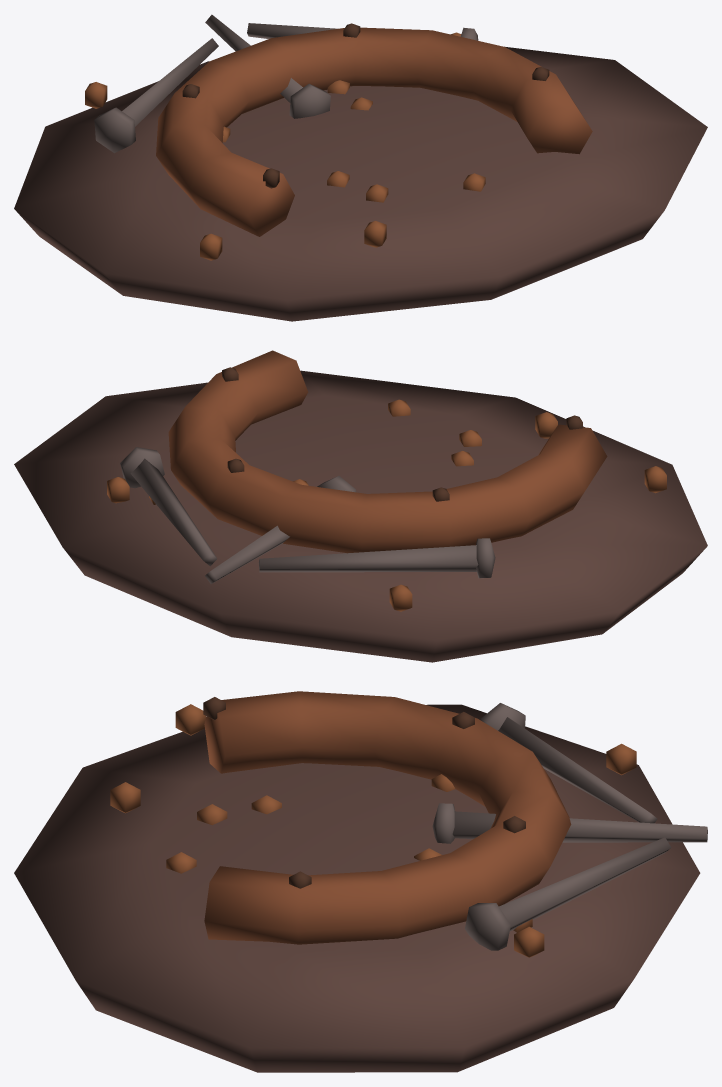
The model's file is ing_iron_filings.glb.
3 renders of one model, top to bottom at view 1: azimuth 30°, elevation 25°; view 2: azimuth 150°, elevation 25°; view 3: azimuth 270°, elevation 25°, orthographic. The views are drawn at different scales.
Parts seen in each view (by area): view 1: ing_iron_filings; view 2: ing_iron_filings; view 3: ing_iron_filings.
Boxes of the visible parts, x1,y1,x2,y2 form: ing_iron_filings: [14, 14, 707, 321]; ing_iron_filings: [14, 350, 707, 662]; ing_iron_filings: [14, 691, 707, 1072].
Size of what is drawn, in the model's own units: 0.2979 by 0.0528 by 0.2539.
